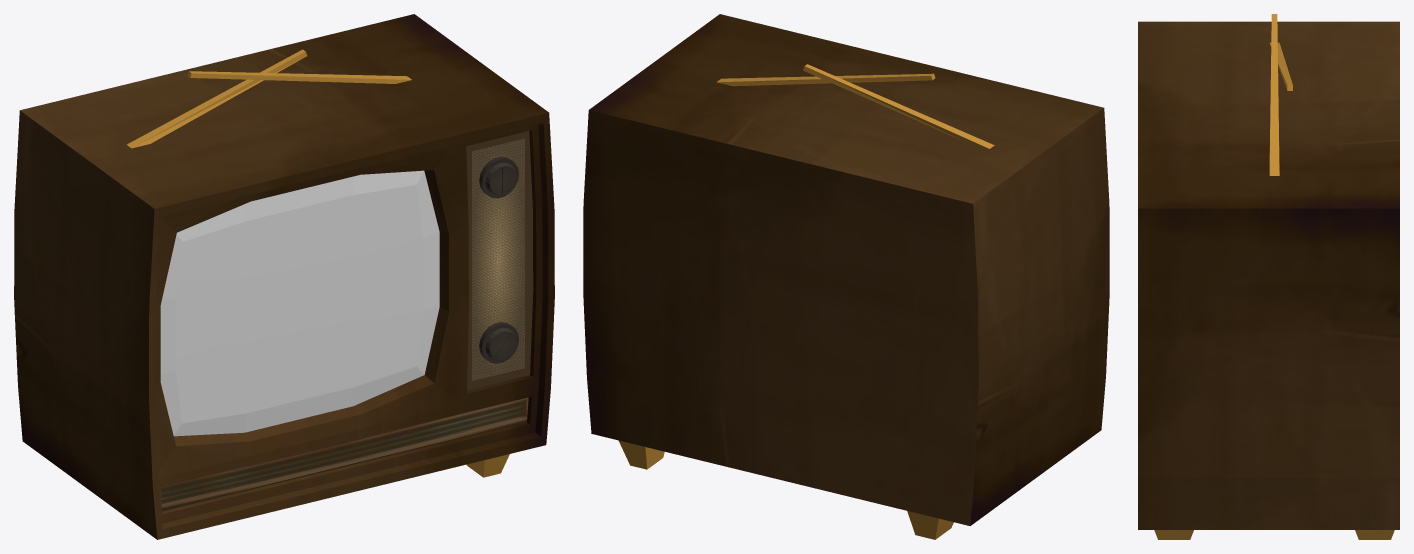
3 renders of one model, left to right at view 1: azimuth 30°, elevation 25°; view 2: azimuth 150°, elevation 25°; view 3: azimuth 270°, elevation 25°, orthographic. The views are drawn at different scales.
Parts seen in each view (by area): view 1: Box045, Object037; view 2: Box045; view 3: Box045.
Boxes of the visible parts, x1,y1,x2,y2 form: Box045: [14, 14, 554, 539]; Object037: [160, 170, 439, 436]; Box045: [583, 14, 1109, 539]; Box045: [1138, 14, 1399, 539].
Size of the model in its own units: 4.11 by 2.36 by 4.05.
Materials: 1 (1 with a texture image).
